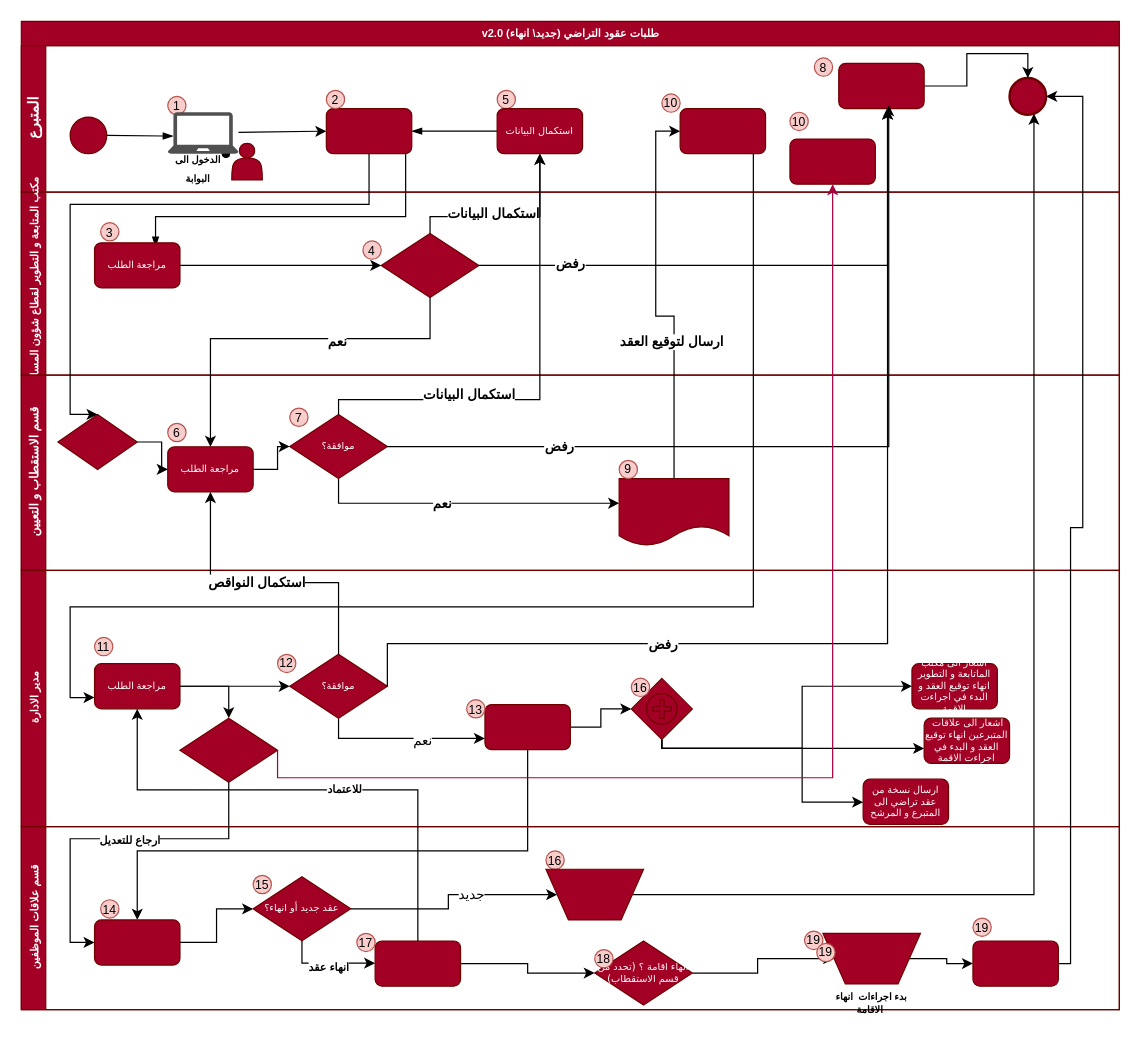
Some shapes in this 1141 by 1037 pixel diagram are drawn without their labels. The centre of each missing label's shape, as x and y in pixels:
احتساب نهاية الخدمة: [417,963]
ارسال رسالة اعتذار للمتبرع: [881,85]
ارسال رسالة بتفاصيل نهاية الخدمة للمتبرع: [832,161]
استلام الطلب: [136,942]
اشعار المرشح بانتهاء الاقامة: [1015,963]
اعادة ارسال من المتبرع: [97,441]
اعتماد نهاية الخدمة؟: [228,749]
اغلاق: [1027,95]
بدء اجراءات الاقامة: [594,894]
بداية: [88,135]
تجهيز عقد التراضي من النظام جديد او انهاء: [673,511]
تعبئة و نموذج طلب عقد تراضي: [368,130]
توقيع المتبرع و المرشح: [722,130]
توقيع مدير الادارة على العقد: [527,726]
موافقة: [429,264]
